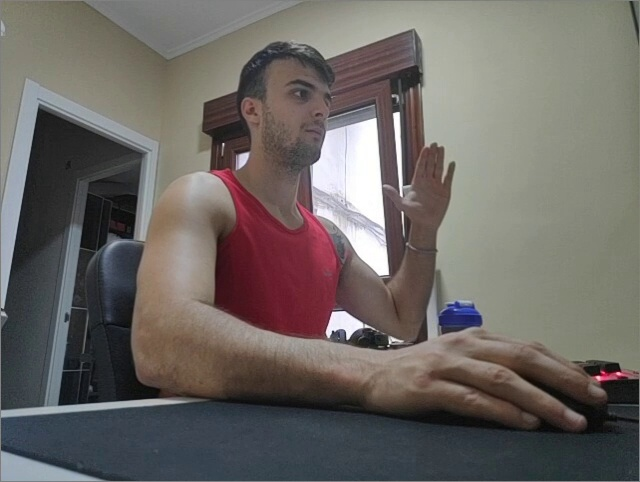Palm: (384, 141, 457, 228)
